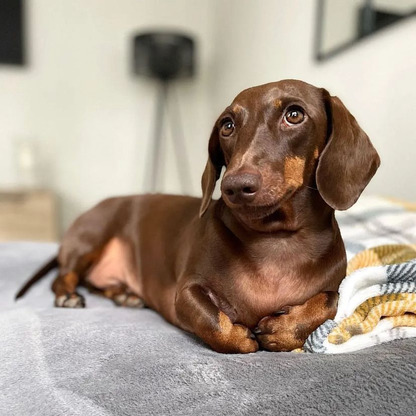dachshund: (40, 61, 401, 386)
